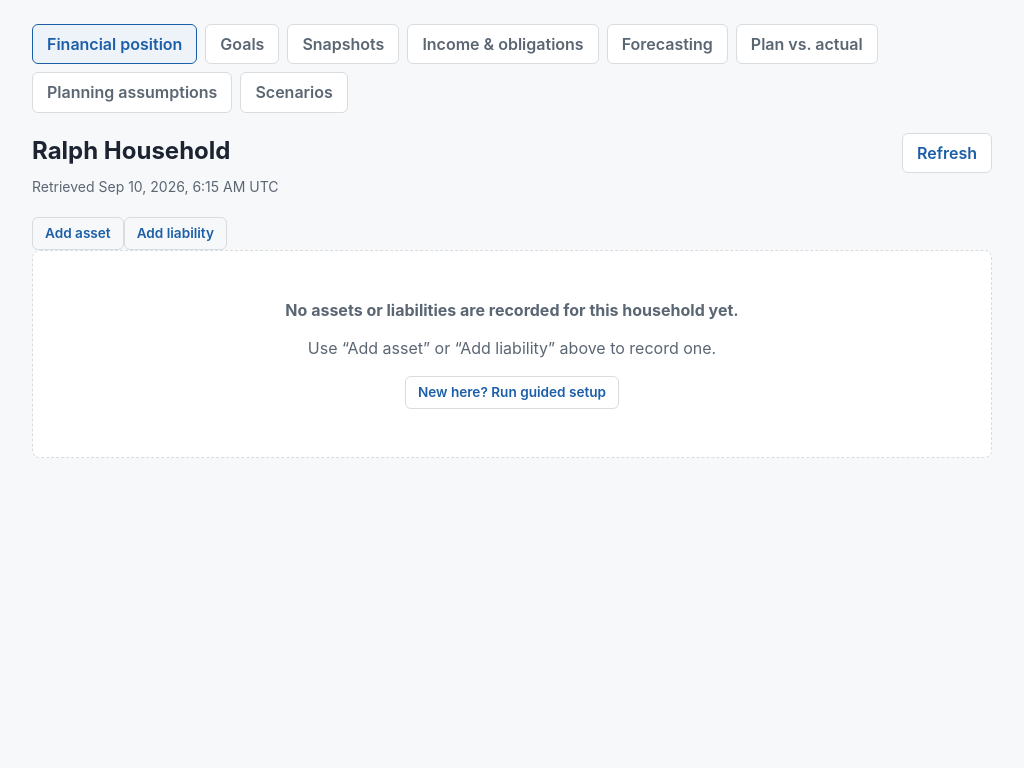
Test: plan comparison › computes planned net worth locally and submits assetTotal/liabilityTotal/netWorth per currency
Click the button "Plan vs. actual".
click(807, 44)  # box [736,24,878,64]
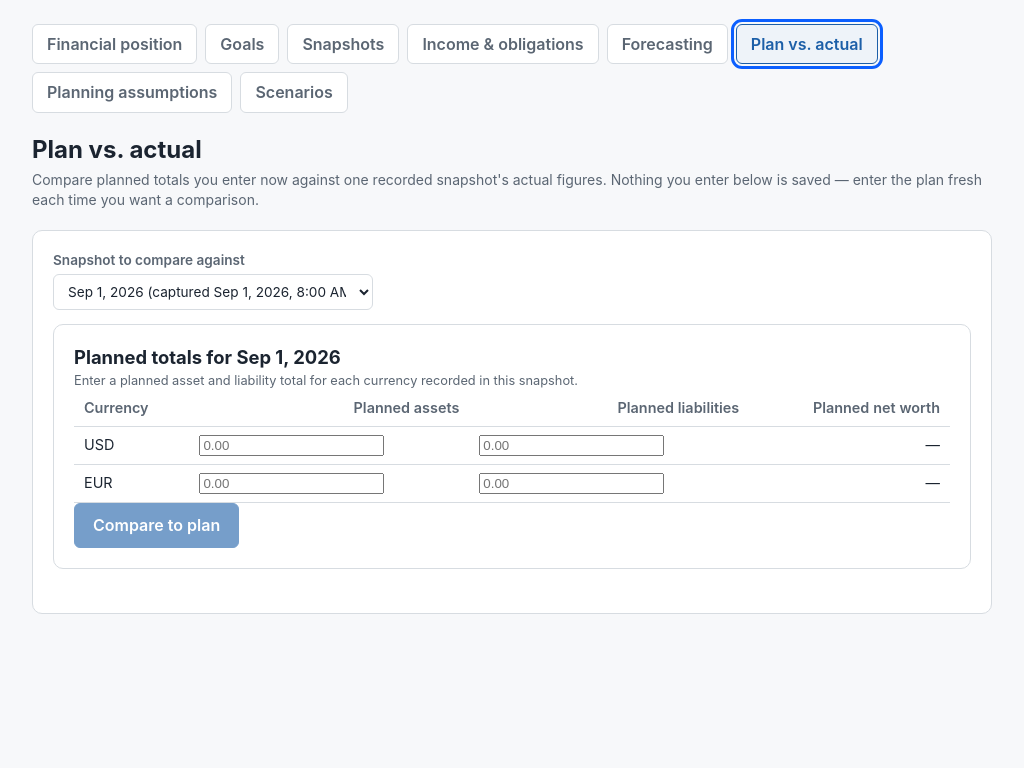
Result: the heading "Plan vs. actual" is shown at [32,133,202,166]
Type "900" into the field named "Planned assets total (USD)".
click(292, 446); type("900")  # box [199,435,384,456]
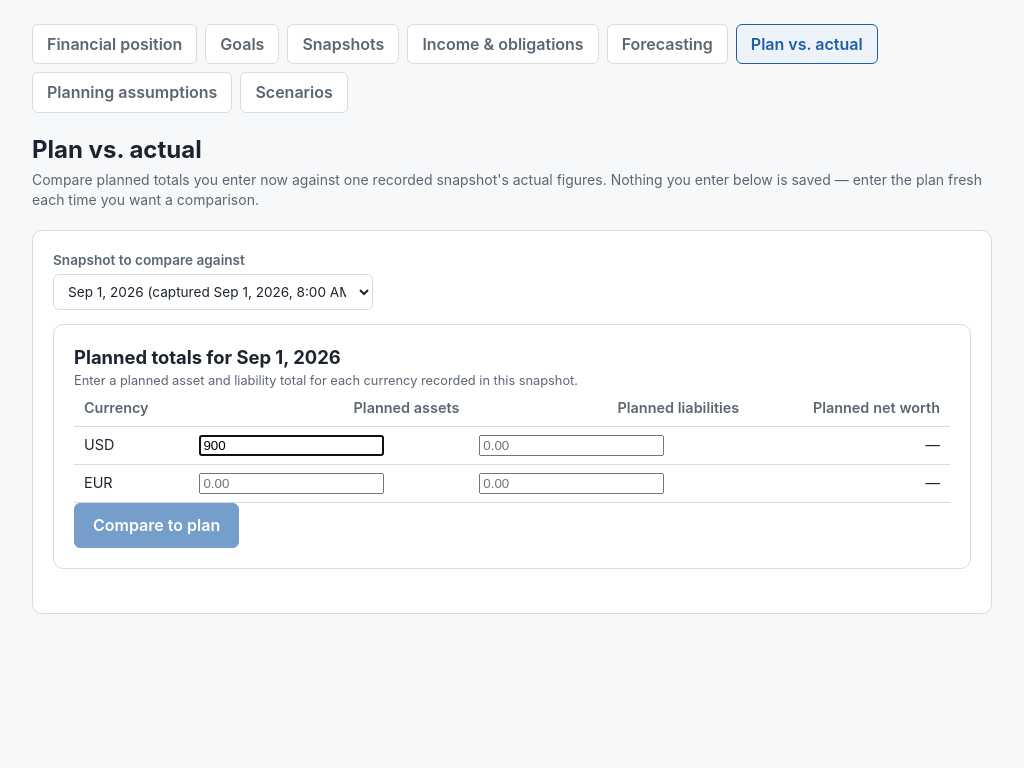
Type "300" into the field named "Planned liabilities total (USD)".
click(572, 446); type("300")  # box [479,435,664,456]
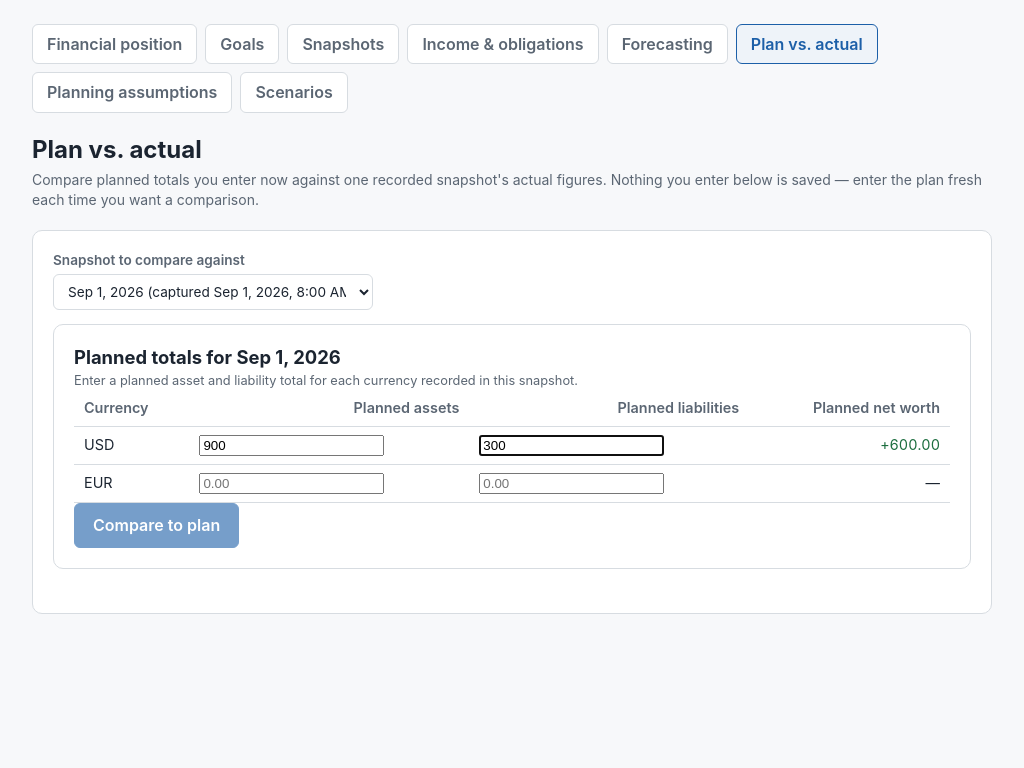
Type "500" into the field named "Planned assets total (EUR)".
click(292, 484); type("500")  # box [199,473,384,494]
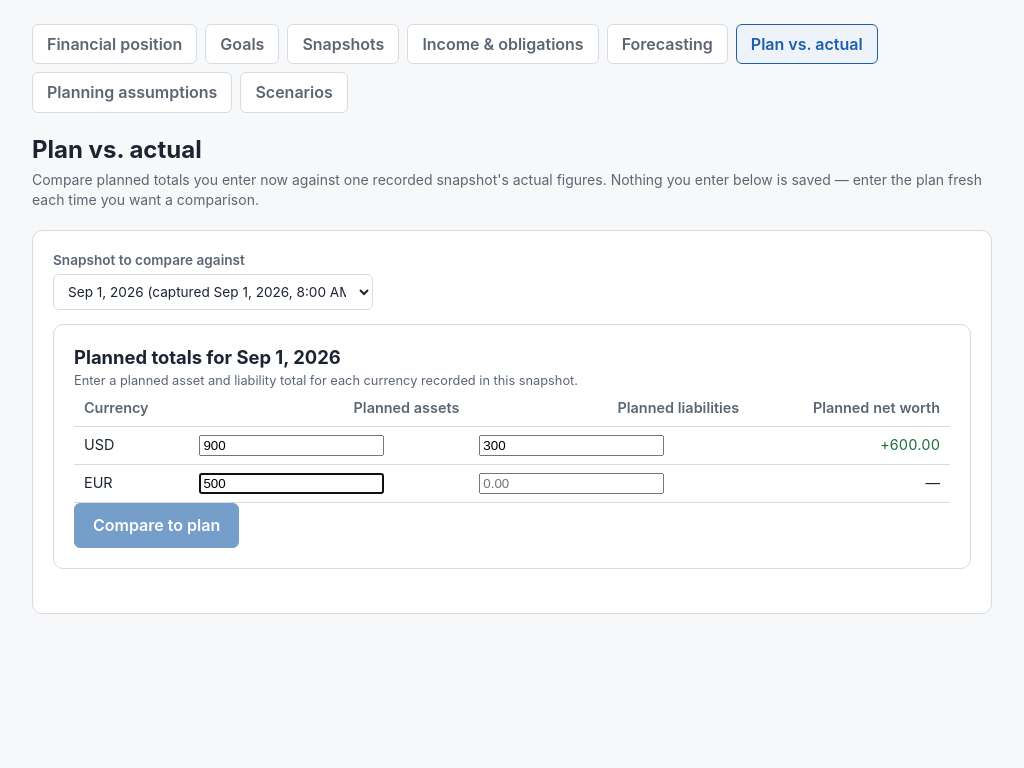
Type "0" into the field named "Planned liabilities total (EUR)".
click(572, 484); type("0")  # box [479,473,664,494]
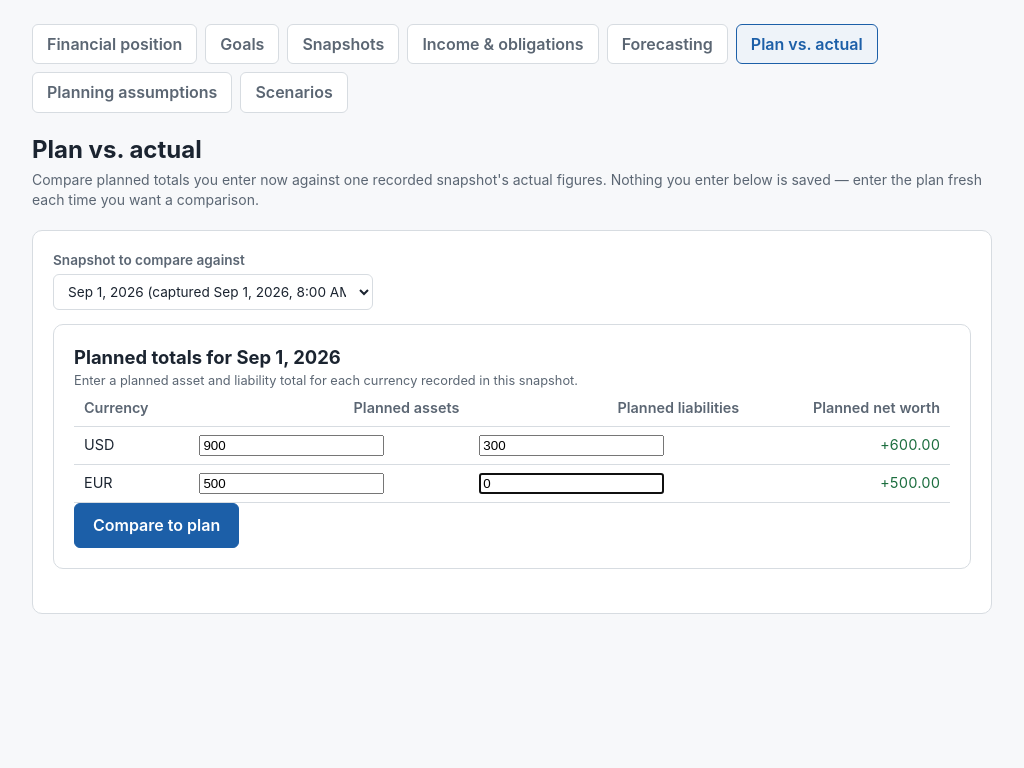
Result: the text "600.00" is shown at [880,436,940,453]
Result: the text "500.00" is shown at [880,474,940,491]
Click the button "Compare to plan".
click(157, 526)  # box [74,503,239,548]
(page scrolled)
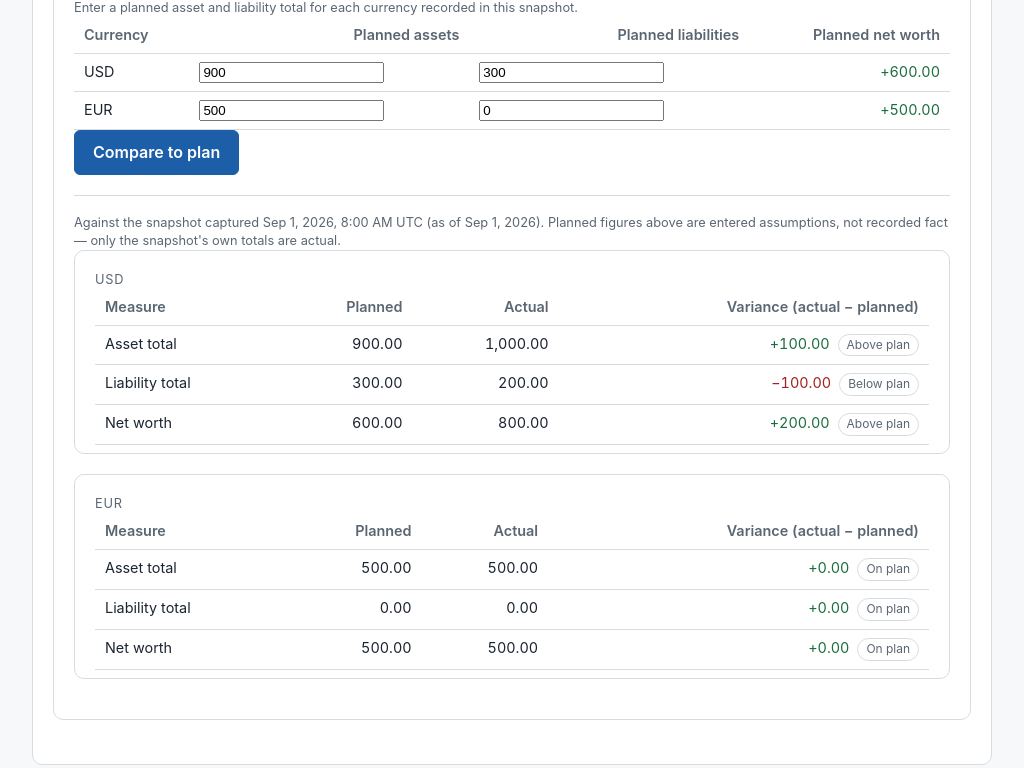
Result: the text "as of Sep 1, 2026" is shown at [74,214,950,250]
Result: the text "Above plan" in the row of "900.00" is shown at [847,337,910,352]
Result: the text "Below plan" is shown at [839,374,919,396]
